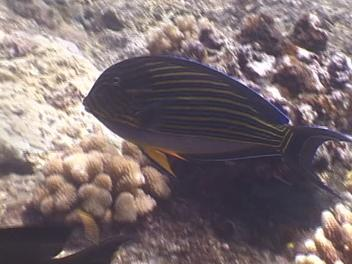Acanthuridae -Surgeonfishes-: (79, 51, 352, 205)
